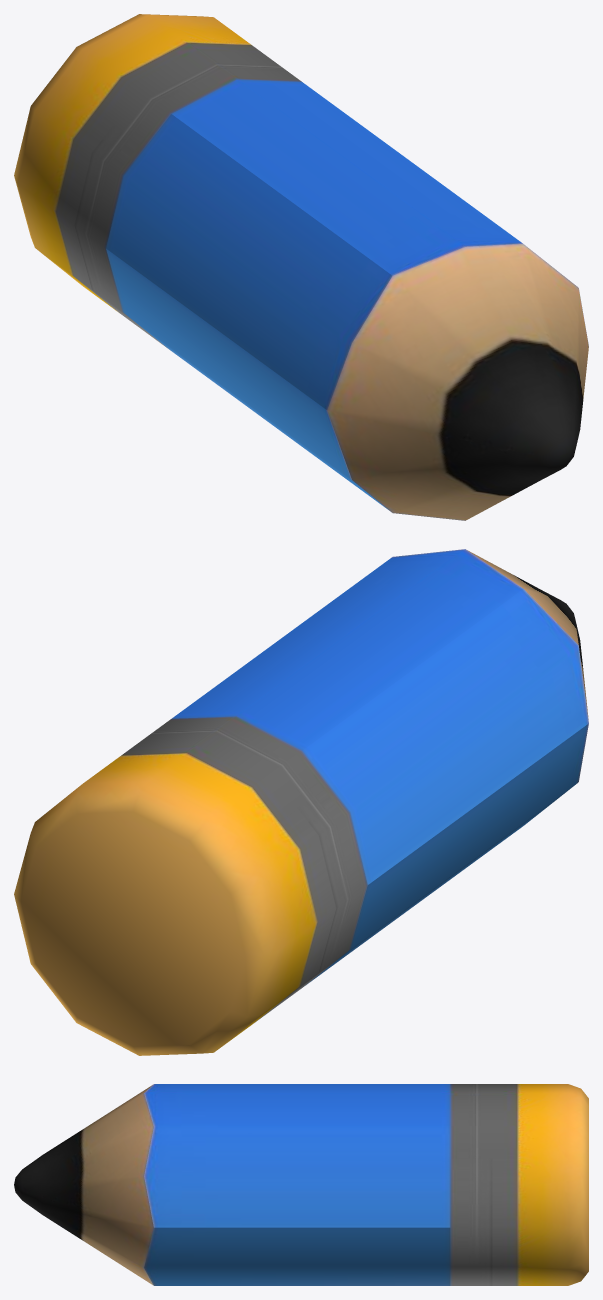
Rendered from pencil.glb.
The picture shows the model from 3 angles, top to bottom: view 1: azimuth 30°, elevation 25°; view 2: azimuth 150°, elevation 25°; view 3: azimuth 270°, elevation 25°; orthographic projection. The views are drawn at different scales.
Size of the model in its own units: 0.3521 by 0.3521 by 1.
Materials: 1 (1 with a texture image).
